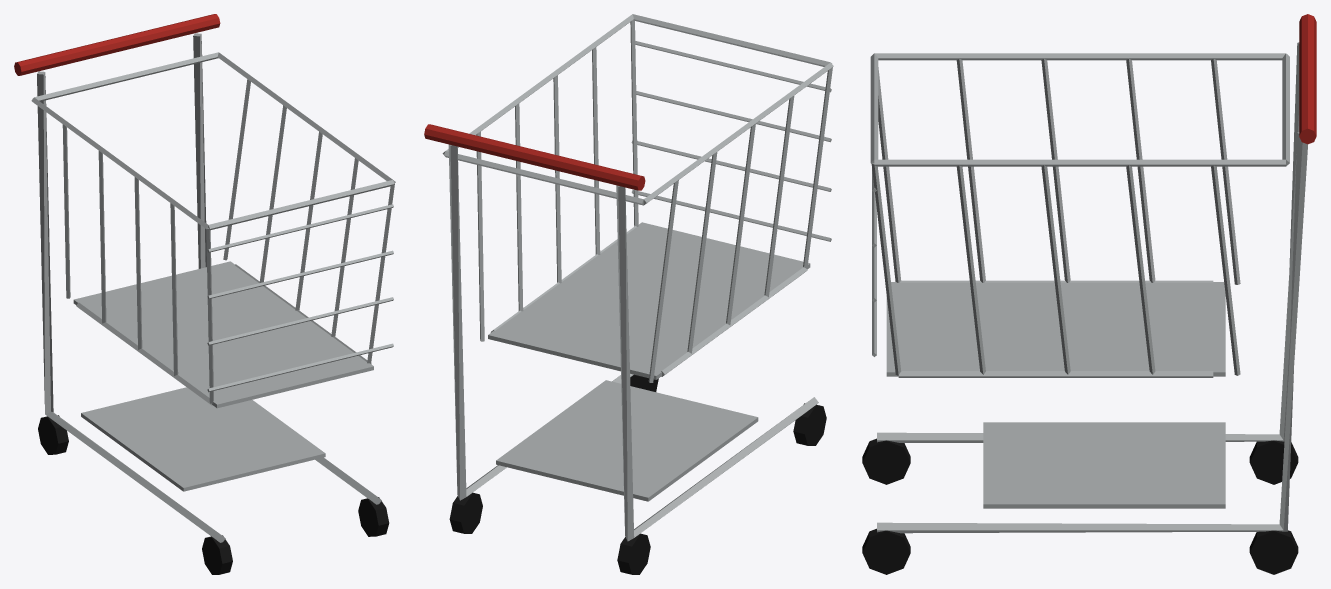
File: shopping_trolley.glb
3 views of the same model, side by side, from view 1: azimuth 30°, elevation 25°; view 2: azimuth 150°, elevation 25°; view 3: azimuth 270°, elevation 25° (orthographic). The views are drawn at different scales.
Parts seen in each view (by area): view 1: ShoppingTrolley; view 2: ShoppingTrolley; view 3: ShoppingTrolley.
Part boxes in pixels (<box>): ShoppingTrolley: <box>14,14,395,574</box>; ShoppingTrolley: <box>424,14,833,574</box>; ShoppingTrolley: <box>862,14,1316,574</box>.
Size of the model in its own units: 0.56 by 1.04 by 0.938.
